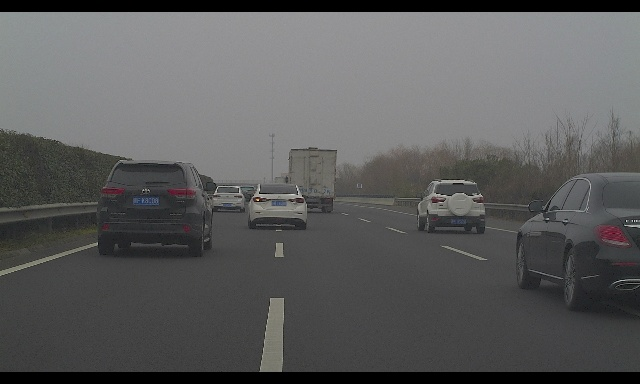car: (516, 173, 640, 312), (96, 160, 217, 256), (415, 179, 485, 234), (244, 183, 308, 230), (211, 185, 246, 213), (239, 185, 256, 202)
truck: (285, 147, 337, 213), (272, 177, 292, 199)
